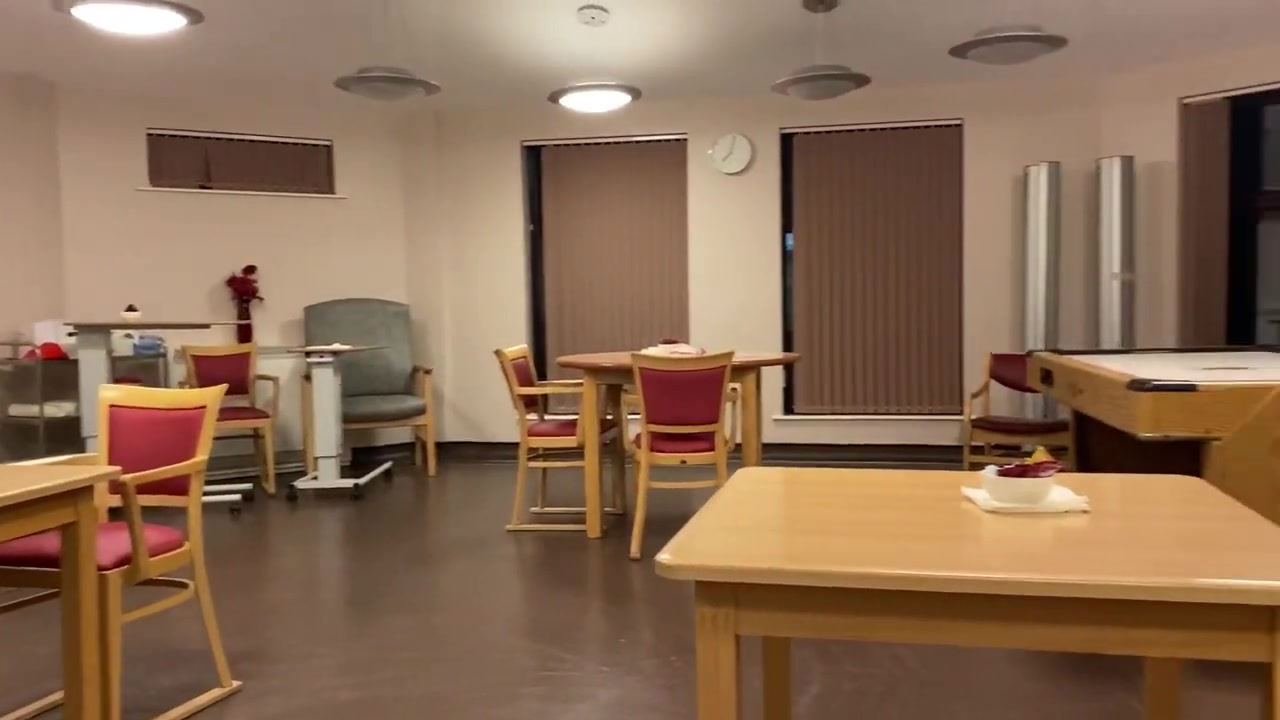chair: (1, 384, 242, 720), (297, 298, 437, 473), (494, 344, 623, 528), (625, 349, 737, 556), (182, 342, 278, 495), (962, 352, 1072, 473)
table: (655, 465, 1280, 720), (558, 349, 800, 538), (62, 321, 252, 496), (1, 464, 120, 720), (254, 343, 395, 502)
utility_cart: (1, 339, 172, 467)
